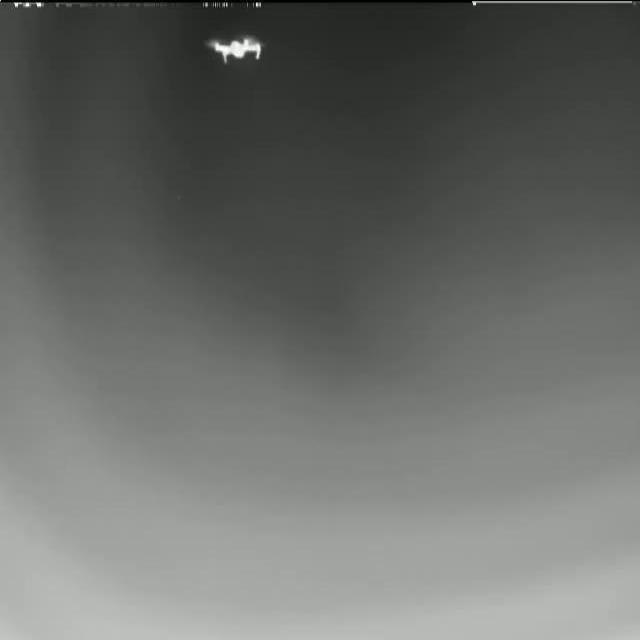DRONE: (204, 33, 271, 66)
